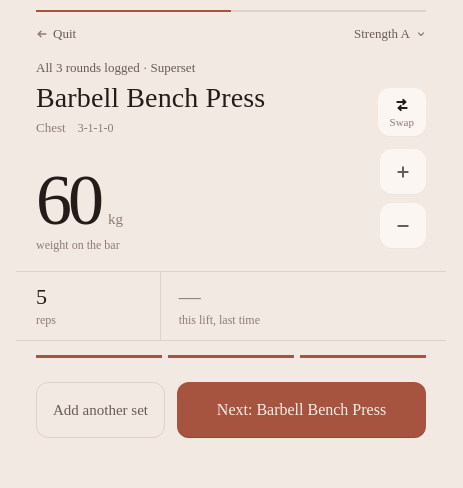
Scenario: the fork on a superset waits for the round › an extra round runs A into B as usual
This screenshot has width=463, height=488.
Step 1. Click the button "Add another set" → (100, 410), box [36, 382, 165, 438]
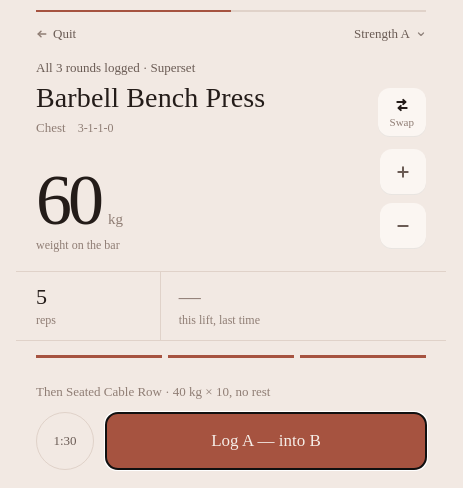
Expected: the button "Log A — into B" is shown, [106, 413, 426, 469]
Expected: the button "Next:" is gone
